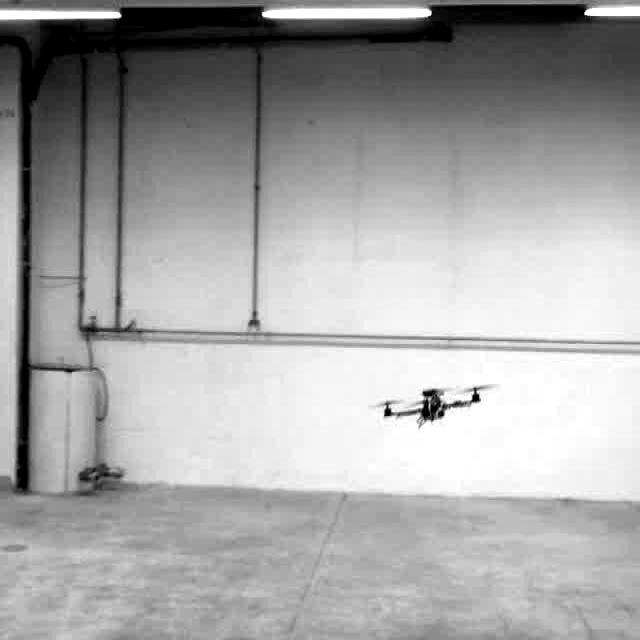drone: (378, 379, 488, 428)
